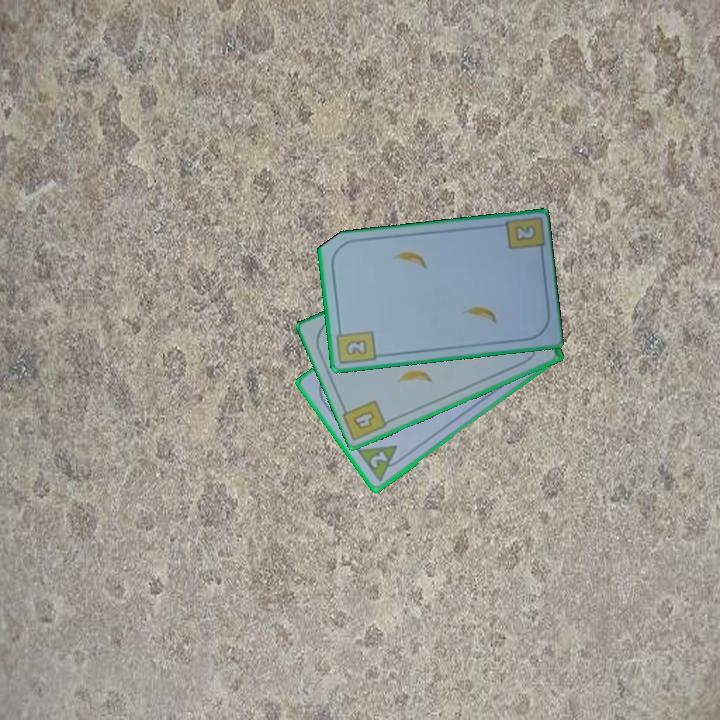2b: (334, 323, 379, 367), (511, 222, 539, 244)
2p: (353, 442, 408, 485)
4b: (349, 407, 378, 433)
